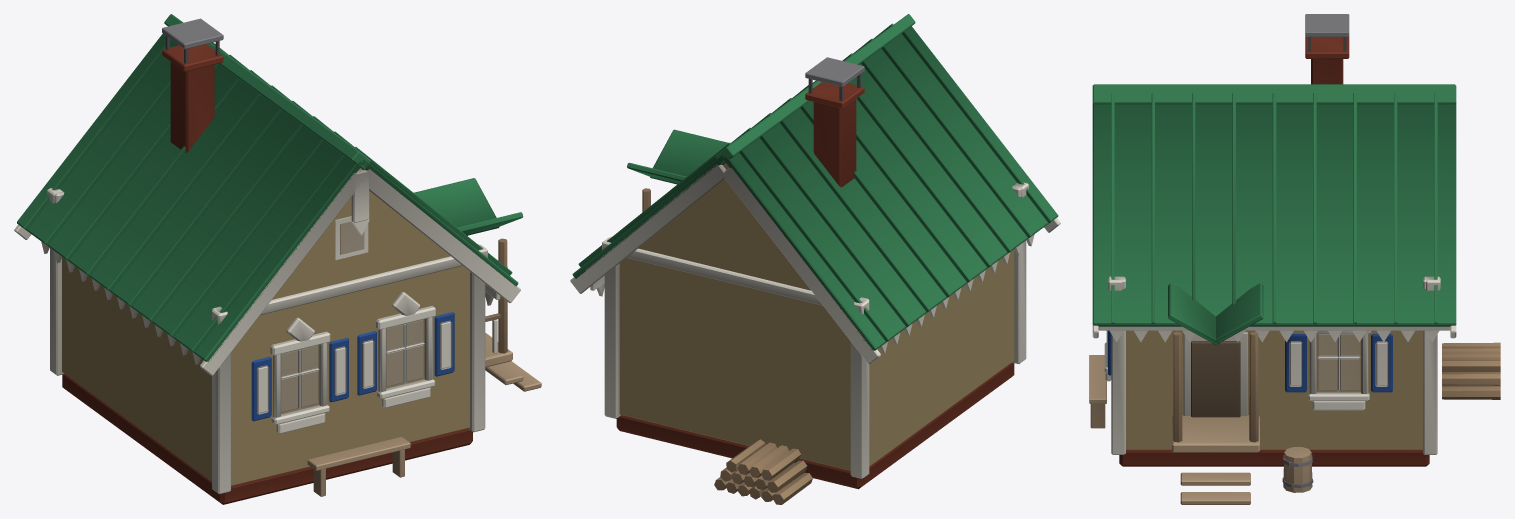
File: bld_izba_e2.glb
3 renders of one model, left to right at view 1: azimuth 30°, elevation 25°; view 2: azimuth 150°, elevation 25°; view 3: azimuth 270°, elevation 25°, orthographic. The views are drawn at different scales.
Parts seen in each view (by area): view 1: izba; view 2: izba; view 3: izba.
Boxes of the visible parts, x1=… form: izba: x1=14, y1=14, x2=541, y2=504; izba: x1=570, y1=14, x2=1060, y2=504; izba: x1=1089, y1=14, x2=1500, y2=504.
Size of the model in its own units: 1.47 by 1.37 by 1.4.
